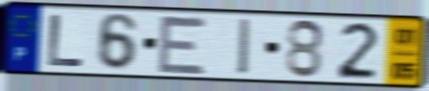2: (336, 20, 381, 81)
6: (95, 12, 139, 74)
8: (283, 18, 327, 81)
E: (156, 13, 210, 77)
I: (237, 16, 254, 78)
L: (45, 12, 88, 69)
